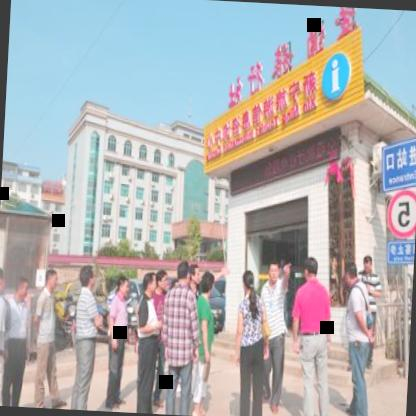head: (340, 255, 360, 292), (138, 268, 160, 301), (76, 258, 97, 292), (196, 268, 218, 300), (42, 264, 62, 295), (301, 253, 321, 283), (174, 254, 192, 284), (12, 275, 32, 302), (116, 271, 134, 300), (240, 264, 257, 294), (360, 249, 375, 278), (266, 259, 283, 281), (154, 268, 170, 290), (187, 260, 201, 284), (0, 265, 5, 297)
